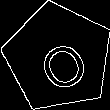O_NW: (27, 25, 89, 90)
